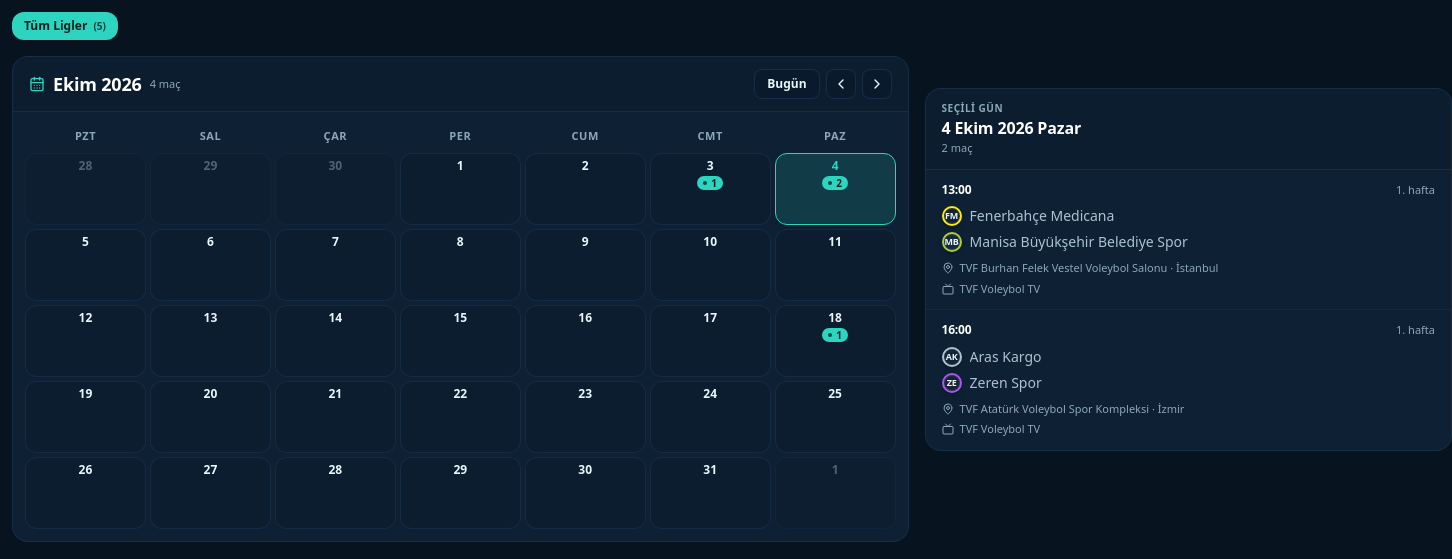
TakvimCalendar › maçsız günü seçince boş durum gösterir
Click the button "6": (210, 264) [150,228,271,300]
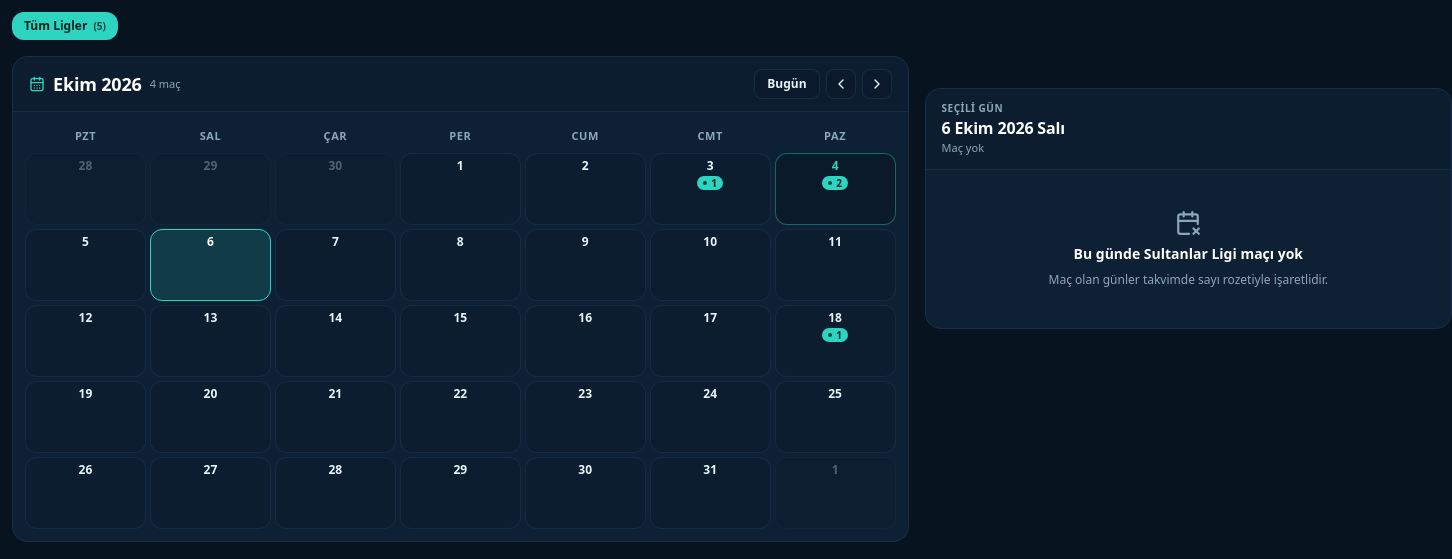
Now the element with test id "empty-state" shows "Bu günde Sultanlar Ligi maçı yok", box [1074,244,1303,262]
Now no list items with test id "match-row" are shown
Now the heading with test id "selected-day-label" reads "6 Ekim 2026 Salı", box [942,117,1065,139]
